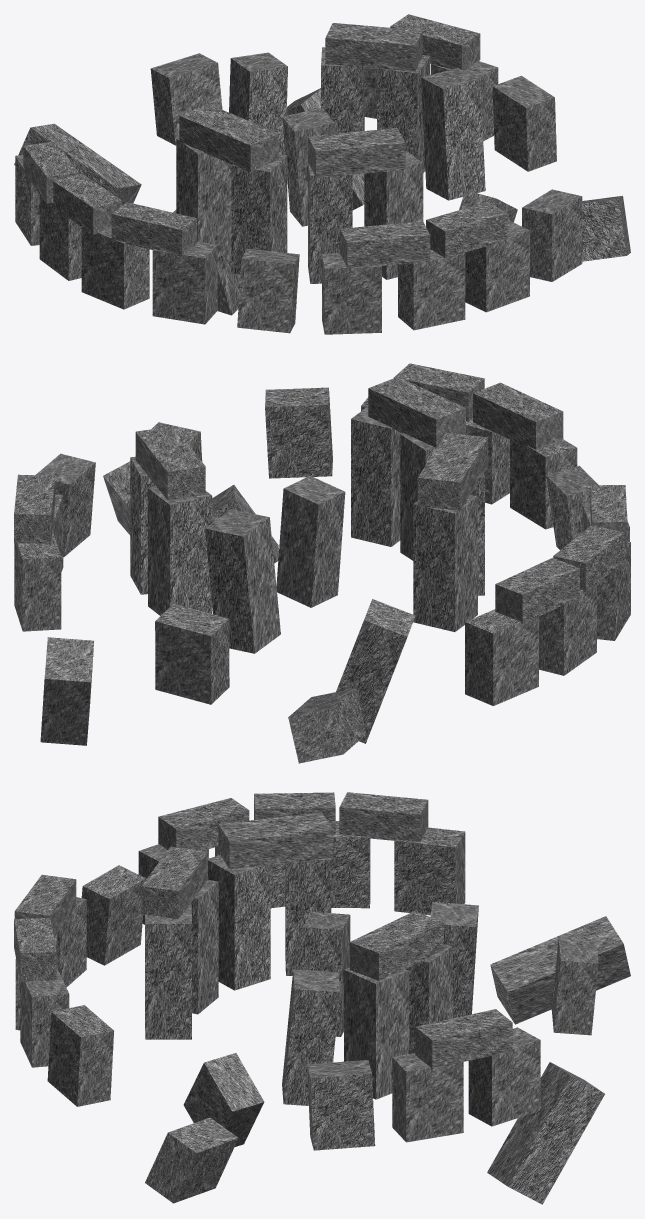
File: stonehenge_decimated.glb
3 renders of one model, top to bottom at view 1: azimuth 30°, elevation 25°; view 2: azimuth 150°, elevation 25°; view 3: azimuth 270°, elevation 25°, orthographic. The views are drawn at different scales.
Parts seen in each view (by area): view 1: Box022, Box020, Box016, Box006, Box009, Box008, Box012, Box005, Box010, Box033, Box011, Box007 (+24 smaller); view 2: Box025, Box006, Box026, Box024, Box018, Box021, Box014, Box012, Box037, Box039, Box032, Box038 (+21 smaller); view 3: Box039, Box020, Box023, Box038, Box021, Box022, Box016, Box012, Box015, Box014, Box017, Box033 (+22 smaller).
Boxes of the visible parts, x1,y1,x2,y2 form: Box022: (421,68,485,200); Box020: (231,154,287,274); Box016: (492,75,556,171); Box006: (176,138,231,256); Box009: (152,241,217,324); Box008: (237,248,299,333); Box012: (522,189,582,281); Box005: (398,249,465,330); Box010: (81,226,149,309); Box033: (179,103,278,172); Box011: (465,220,529,312); Box007: (322,253,381,334); Box025: (205,509,280,653); Box006: (413,495,477,631); Box026: (276,475,345,607); Box024: (148,486,212,615); Box018: (155,603,229,704); Box021: (351,406,402,546); Box014: (465,609,538,705); Box012: (265,387,332,478); Box037: (336,599,415,743); Box039: (40,637,93,745); Box032: (368,377,465,447); Box038: (288,688,366,763); Box039: (487,1062,604,1204); Box020: (208,855,270,990); Box023: (344,967,409,1099); Box038: (490,916,630,1024); Box021: (145,904,191,1039); Box022: (282,969,339,1105); Box016: (307,1060,375,1150); Box012: (47,1005,113,1106); Box015: (392,1053,463,1142); Box014: (394,827,465,915); Box017: (468,1027,540,1126); Box033: (218,812,333,869).
Bounding box in the file's own units: 69.02 × 30.33 × 68.15.
1 material, 1 textured.
